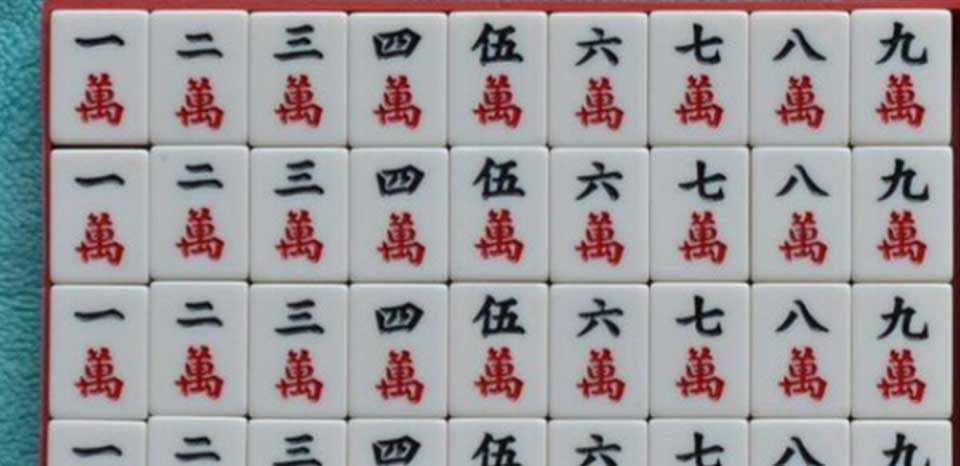man_1: (54, 12, 149, 151)
man_2: (147, 8, 252, 147)
man_3: (252, 12, 352, 146)
man_4: (350, 12, 452, 146)
man_5: (450, 10, 549, 147)
man_6: (550, 8, 649, 146)
man_7: (645, 8, 752, 146)
man_8: (750, 8, 850, 147)
man_9: (850, 12, 954, 144)
